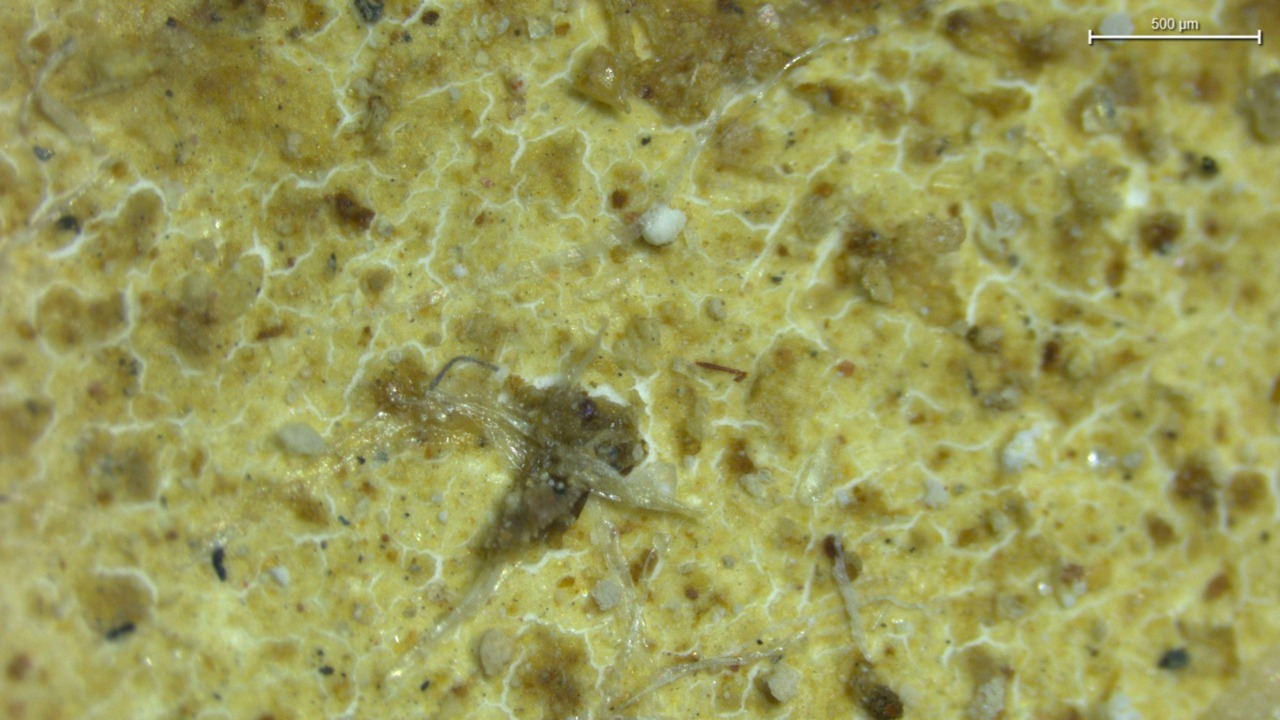microplastic_fragment: (639, 205, 687, 246), (764, 661, 800, 702)
